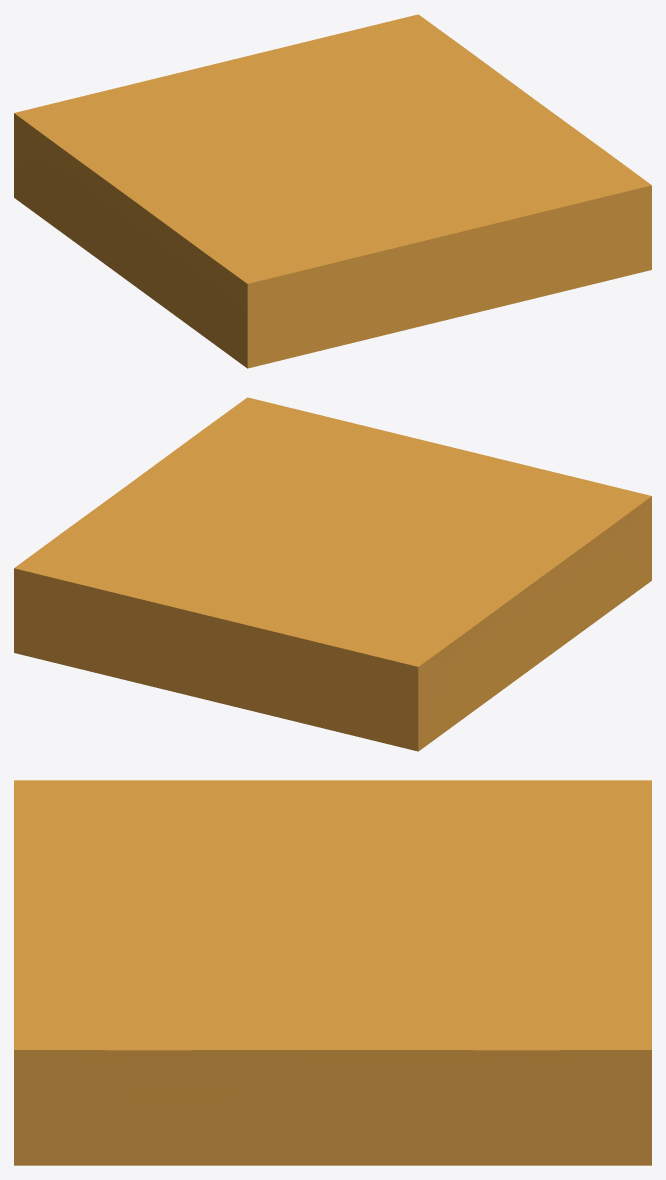
The model's file is tile-runway-intersection.glb.
The picture shows the model from 3 angles, top to bottom: view 1: azimuth 30°, elevation 25°; view 2: azimuth 150°, elevation 25°; view 3: azimuth 270°, elevation 25°; orthographic projection. The views are drawn at different scales.
Parts seen in each view (by area): view 1: tile-runway-intersection; view 2: tile-runway-intersection; view 3: tile-runway-intersection.
Boxes of the visible parts, left/top/right/bottom form: tile-runway-intersection: left=14, top=14, right=651, bottom=368; tile-runway-intersection: left=14, top=397, right=651, bottom=751; tile-runway-intersection: left=14, top=780, right=651, bottom=1165.
Bounding box in the file's own units: 30.03 × 6 × 30.
